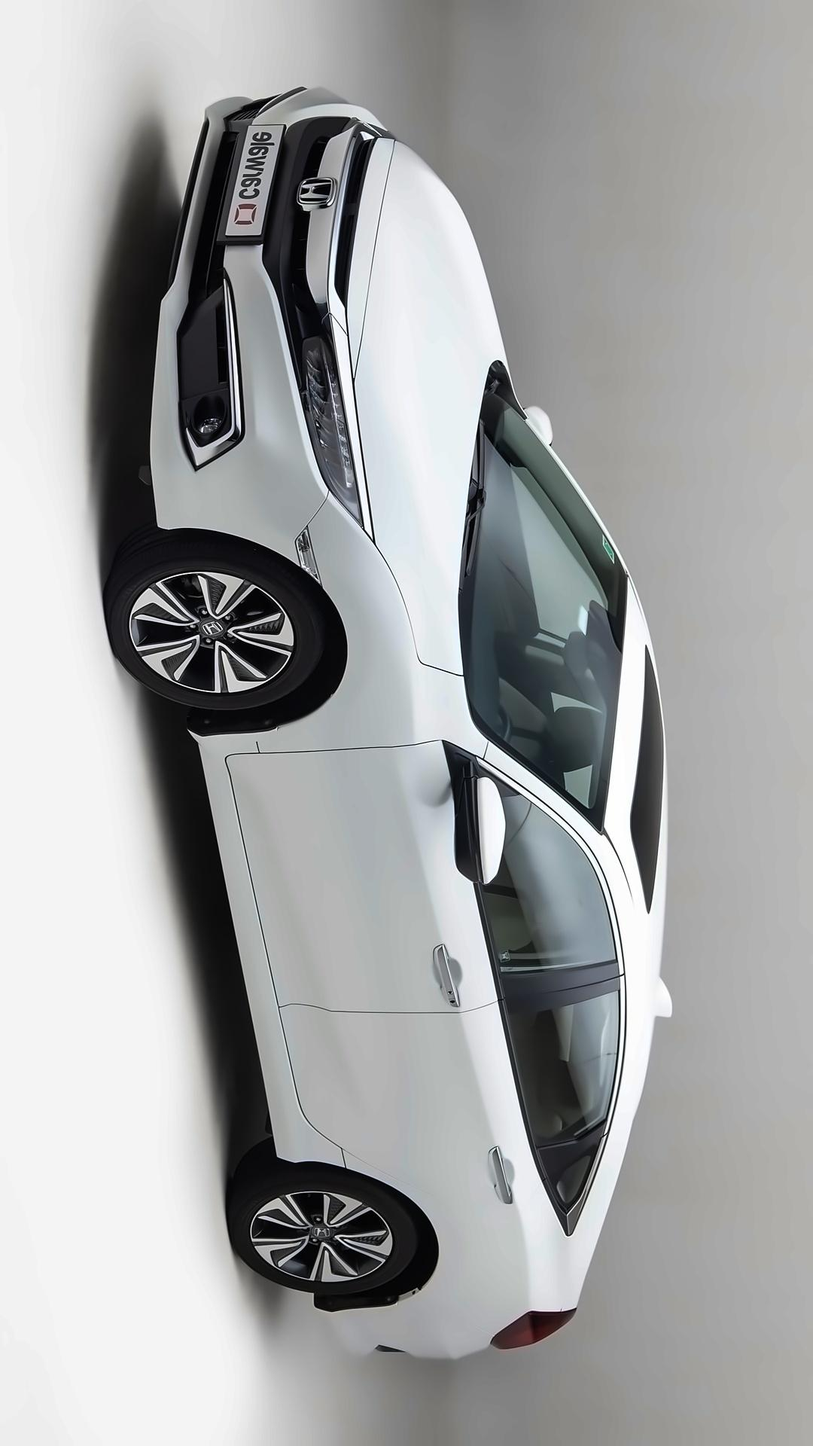Car hood: (332, 133, 511, 713)
Fender - -F-L-: (196, 477, 498, 771)
Fender - -R-L-: (239, 1117, 703, 1322)
Front bumper: (138, 81, 337, 557)
Headlight - -L-: (281, 284, 379, 539)
Passenger-s door - -F-L-: (168, 738, 685, 1015)
Passenger-s door - -R-L-: (229, 972, 690, 1202)
Rear bumper: (301, 1287, 449, 1374)
Side bumper - -L-: (168, 728, 337, 1169)
Side mirror - -L-: (427, 751, 520, 901)
